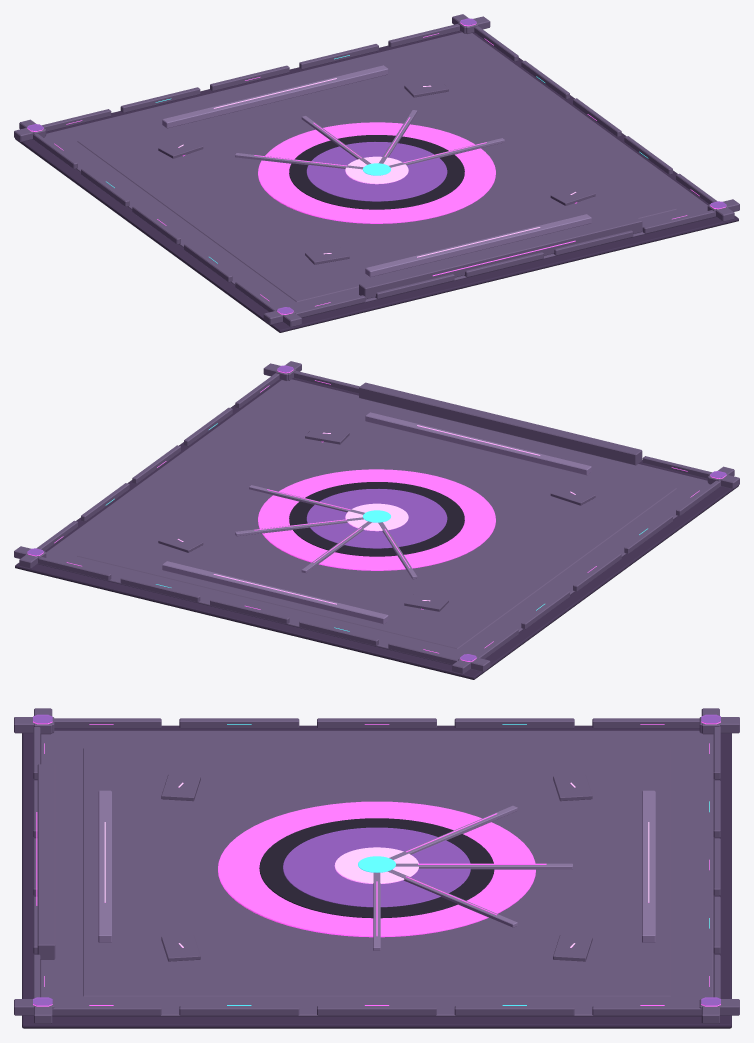
File: sector_2_rift_lens.glb
3 renders of one model, top to bottom at view 1: azimuth 30°, elevation 25°; view 2: azimuth 150°, elevation 25°; view 3: azimuth 270°, elevation 25°, orthographic. The views are drawn at different scales.
Visible parts, largest first — view 1: RiftLensFocusingDeckFoundation, RiftLensContinuousGraphiteFloorBed, RiftLensDarkRiftUndertray, RiftLensPrimaryFocalOuterMagentaPrismRing, RiftLensPrimaryFocalVioletGlassLensPlate, RiftLensNorthBossApproachWallMass, RiftLensPrimaryFocalDarkInnerLensWell, RiftLensApproachArcFrame1, RiftLensApproachArcFrame0, RiftLensCentralMagentaEyeCore, Sector2HR3SouthReferenceRaisedBoundaryRail1.003, Sector2HR3SouthReferenceRaisedBoundaryRail2.003 (+14 smaller); view 2: RiftLensFocusingDeckFoundation, RiftLensContinuousGraphiteFloorBed, RiftLensDarkRiftUndertray, RiftLensPrimaryFocalOuterMagentaPrismRing, RiftLensNorthBossApproachWallMass, RiftLensPrimaryFocalVioletGlassLensPlate, RiftLensPrimaryFocalDarkInnerLensWell, RiftLensApproachArcFrame0, RiftLensApproachArcFrame1, RiftLensCentralMagentaEyeCore, Sector2HR3SouthReferenceRaisedBoundaryRail3.003, Sector2HR3SouthReferenceRaisedBoundaryRail1.003 (+11 smaller); view 3: RiftLensFocusingDeckFoundation, RiftLensContinuousGraphiteFloorBed, RiftLensDarkRiftUndertray, RiftLensPrimaryFocalOuterMagentaPrismRing, RiftLensPrimaryFocalVioletGlassLensPlate, RiftLensPrimaryFocalDarkInnerLensWell, RiftLensNorthBossApproachWallMass, RiftLensApproachArcFrame0, RiftLensApproachArcFrame1, RiftLensCentralMagentaEyeCore, Sector2HR3WestReferenceRaisedBoundaryRail1.003, Sector2HR3WestReferenceRaisedBoundaryRail3.003 (+16 smaller).
Part boxes in pixels (x1,y1,x2,y2): RiftLensFocusingDeckFoundation: [77, 48, 676, 301]; RiftLensContinuousGraphiteFloorBed: [43, 32, 716, 317]; RiftLensDarkRiftUndertray: [15, 31, 738, 332]; RiftLensPrimaryFocalOuterMagentaPrismRing: [258, 122, 495, 223]; RiftLensPrimaryFocalVioletGlassLensPlate: [306, 142, 447, 201]; RiftLensNorthBossApproachWallMass: [359, 216, 642, 299]; RiftLensPrimaryFocalDarkInnerLensWell: [289, 135, 464, 209]; RiftLensApproachArcFrame1: [162, 65, 388, 128]; RiftLensApproachArcFrame0: [365, 214, 591, 277]; RiftLensCentralMagentaEyeCore: [345, 156, 408, 184]; Sector2HR3SouthReferenceRaisedBoundaryRail1.003: [120, 87, 200, 112]; Sector2HR3SouthReferenceRaisedBoundaryRail2.003: [210, 65, 289, 91]; RiftLensFocusingDeckFoundation: [77, 395, 676, 648]; RiftLensContinuousGraphiteFloorBed: [37, 379, 710, 664]; RiftLensDarkRiftUndertray: [15, 378, 738, 679]; RiftLensPrimaryFocalOuterMagentaPrismRing: [258, 469, 495, 570]; RiftLensNorthBossApproachWallMass: [359, 382, 642, 465]; RiftLensPrimaryFocalVioletGlassLensPlate: [306, 489, 447, 548]; RiftLensPrimaryFocalDarkInnerLensWell: [289, 482, 464, 556]; RiftLensApproachArcFrame0: [365, 412, 591, 475]; RiftLensApproachArcFrame1: [162, 561, 388, 624]; RiftLensCentralMagentaEyeCore: [345, 503, 408, 531]; Sector2HR3SouthReferenceRaisedBoundaryRail3.003: [120, 577, 200, 602]; Sector2HR3SouthReferenceRaisedBoundaryRail1.003: [299, 620, 378, 645]; RiftLensFocusingDeckFoundation: [83, 748, 670, 996]; RiftLensContinuousGraphiteFloorBed: [40, 730, 713, 1016]; RiftLensDarkRiftUndertray: [22, 725, 731, 1028]; RiftLensPrimaryFocalOuterMagentaPrismRing: [218, 801, 535, 937]; RiftLensPrimaryFocalVioletGlassLensPlate: [283, 827, 470, 907]; RiftLensPrimaryFocalDarkInnerLensWell: [259, 818, 494, 918]; RiftLensNorthBossApproachWallMass: [37, 764, 55, 959]; RiftLensApproachArcFrame0: [98, 790, 111, 942]; RiftLensApproachArcFrame1: [642, 790, 655, 942]; RiftLensCentralMagentaEyeCore: [334, 847, 418, 883]; Sector2HR3WestReferenceRaisedBoundaryRail1.003: [179, 718, 299, 728]; Sector2HR3WestReferenceRaisedBoundaryRail3.003: [454, 718, 574, 728].
Size of the model in its own units: 59.3 by 2.24 by 59.3.
